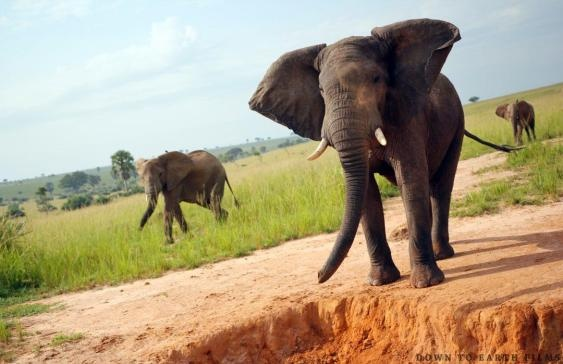elephant: (246, 16, 509, 292), (134, 146, 245, 249), (495, 97, 540, 144)
